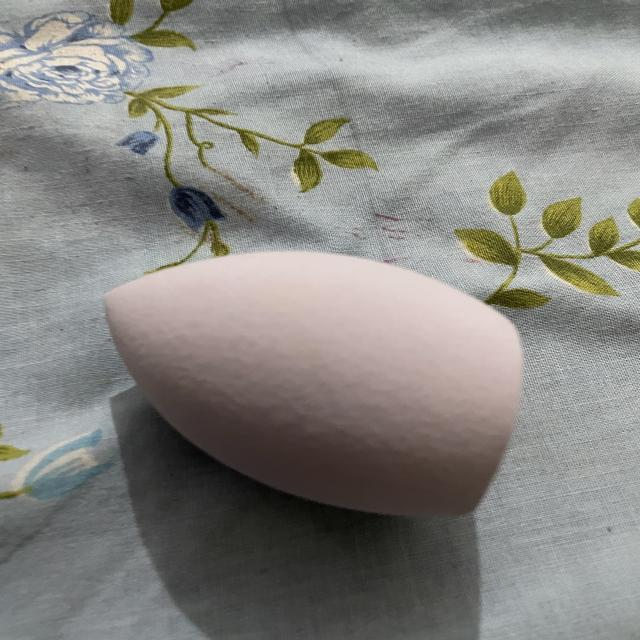beauty blender: (85, 234, 548, 532)
